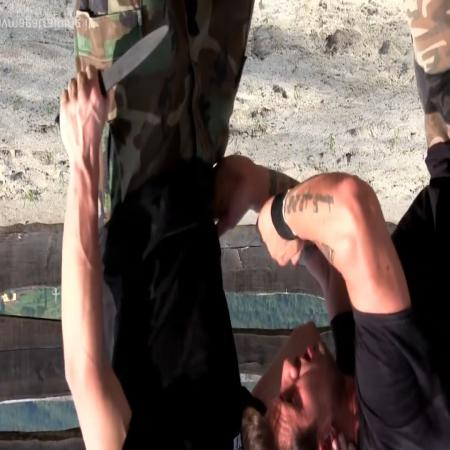long weapon: (52, 17, 171, 140)
